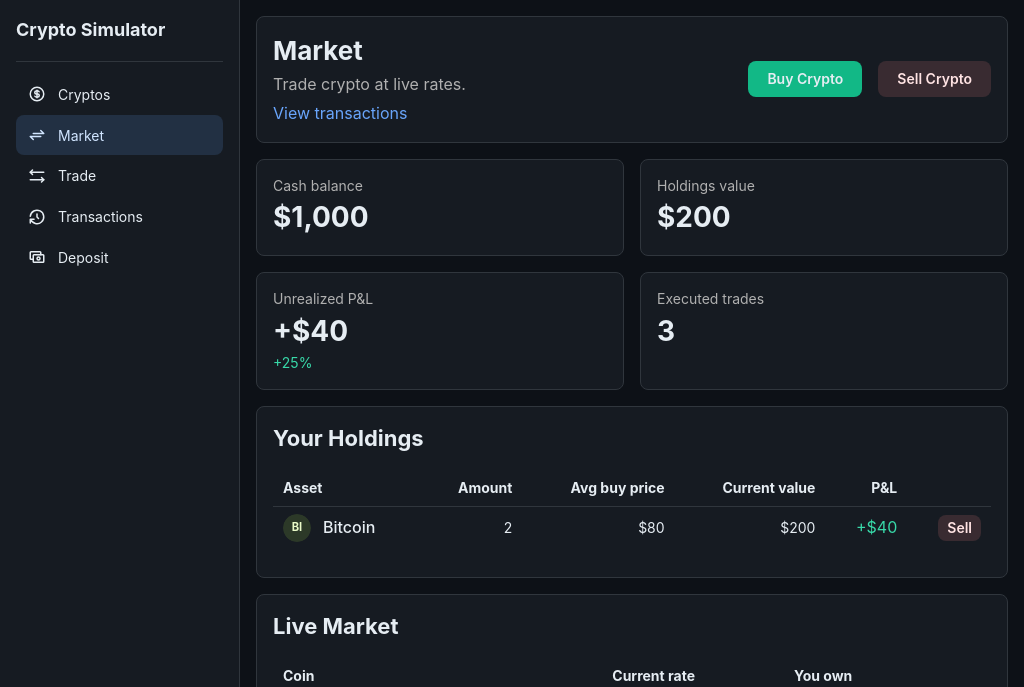
Scenario: MarketPage › opens the modal in sell mode with the coin preselected
This screenshot has width=1024, height=687.
What coordinates should you click on to do the following:
click the button with aria-label "Sell Bitcoin"
I would click on:
 (960, 528)
Its box is 938,515 -> 981,541.
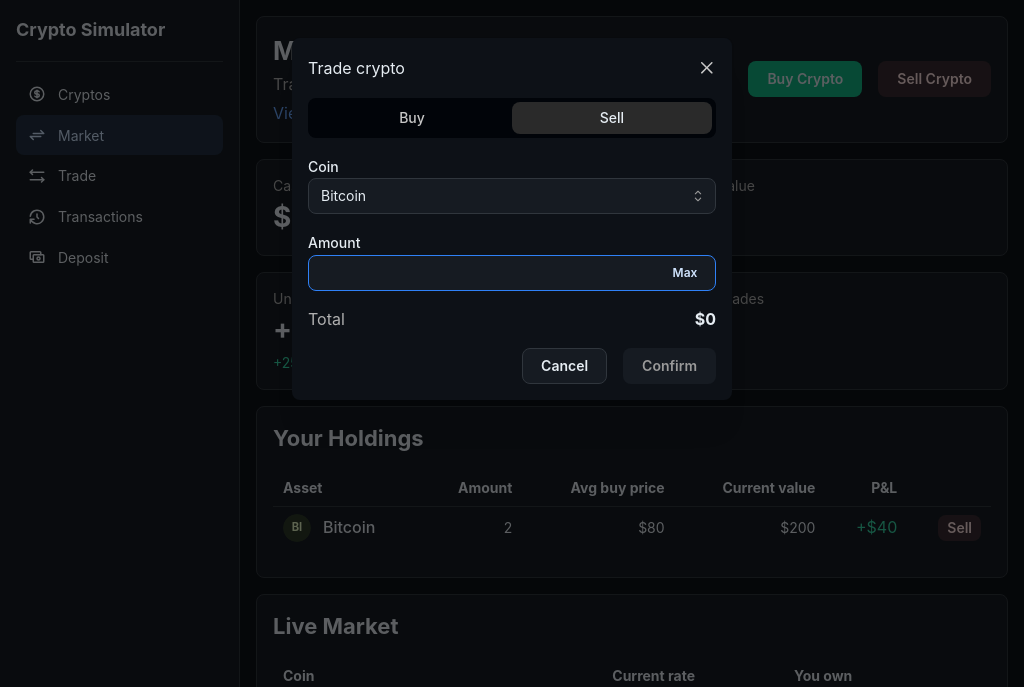
Expected: the radio button labelled "Sell" is checked, 600,109 -> 624,126
Expected: the dropdown labelled "Coin" shows "Bitcoin", 308,179 -> 716,215
